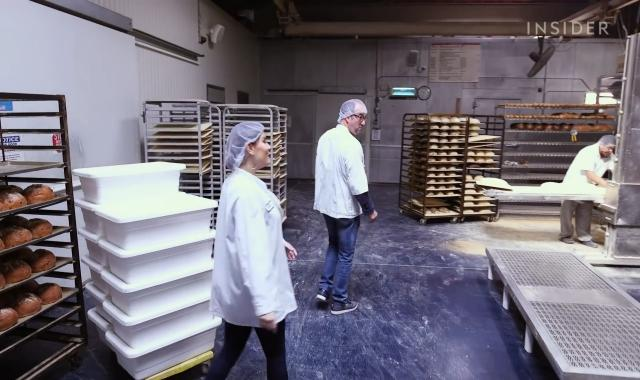hairnet: (222, 120, 264, 170), (339, 98, 368, 119), (599, 133, 617, 148)
